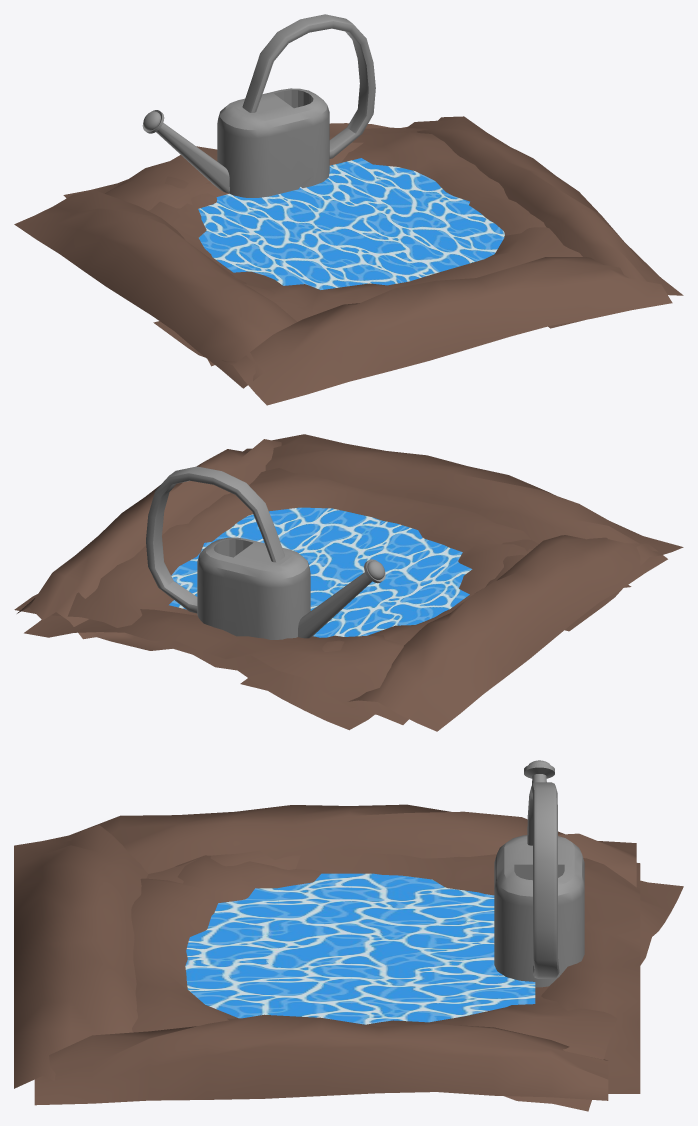
The model's file is pond.fbx.
The picture shows the model from 3 angles, top to bottom: view 1: azimuth 30°, elevation 25°; view 2: azimuth 150°, elevation 25°; view 3: azimuth 270°, elevation 25°; orthographic projection. The views are drawn at different scales.
Parts seen in each view (by area): view 1: pPlane7, pPlane3, pCube2; view 2: pPlane7, pPlane3, pCube2; view 3: pPlane7, pPlane3, pCube2.
Part boxes in pixels (left/top/right/bottom): pPlane7: left=14, top=116, right=683, bottom=405; pPlane3: left=198, top=158, right=504, bottom=289; pCube2: left=142, top=14, right=375, bottom=197; pPlane7: left=14, top=434, right=683, bottom=731; pPlane3: left=169, top=507, right=472, bottom=637; pCube2: left=146, top=466, right=385, bottom=639; pPlane7: left=14, top=804, right=683, bottom=1111; pPlane3: left=185, top=873, right=535, bottom=1024; pCube2: left=494, top=760, right=584, bottom=987.
Size of the model in its own units: 49.78 by 19.74 by 52.58.
3 materials, 1 textured.
